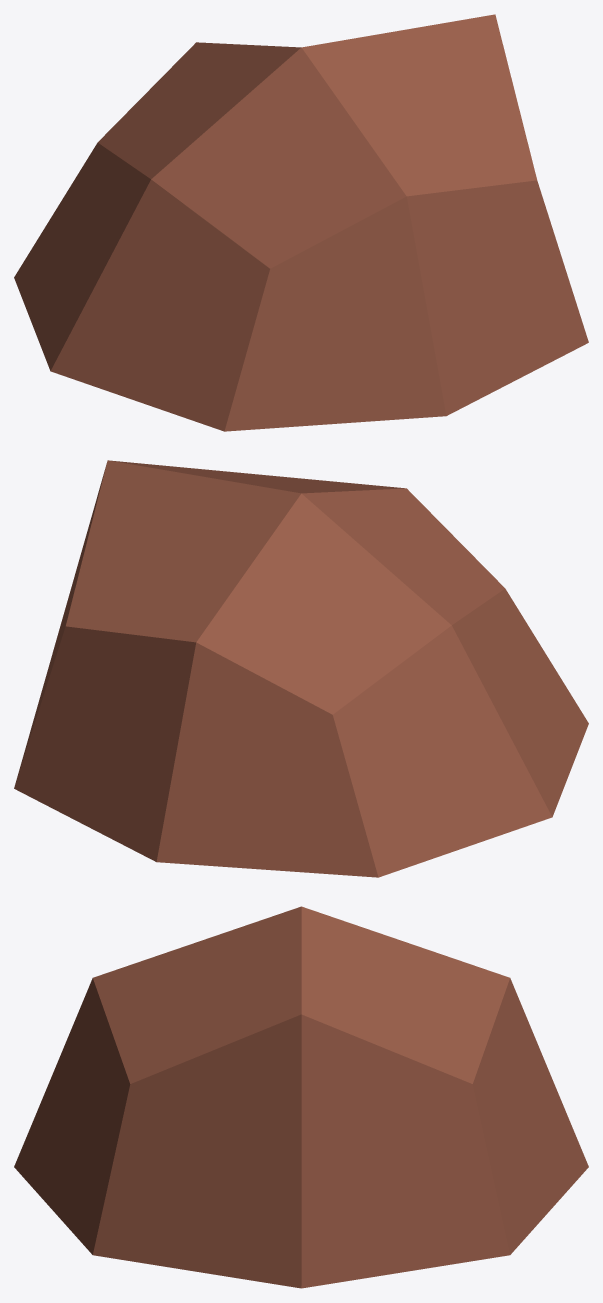
The picture shows the model from 3 angles, top to bottom: view 1: azimuth 30°, elevation 25°; view 2: azimuth 150°, elevation 25°; view 3: azimuth 270°, elevation 25°; orthographic projection.
Visible parts, largest first — view 1: Cube; view 2: Cube; view 3: Cube.
Part boxes in pixels (x1,y1,x2,y2): Cube: (14,14,588,431); Cube: (14,460,588,877); Cube: (14,906,588,1288).
Size of the model in its own units: 0.8302 by 0.4151 by 0.8302.
